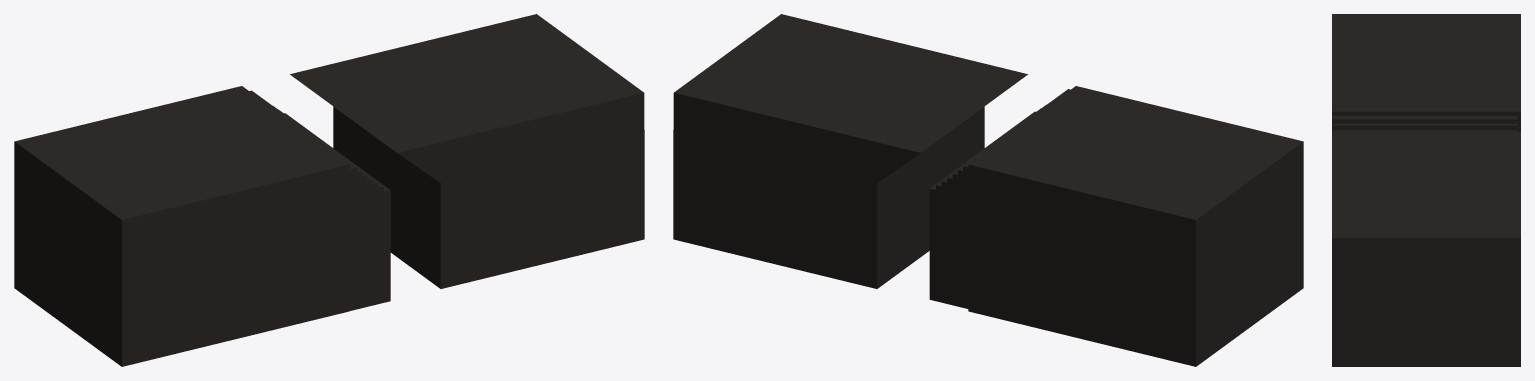
Rendered from underground.FBX.
3 renders of one model, left to right at view 1: azimuth 30°, elevation 25°; view 2: azimuth 150°, elevation 25°; view 3: azimuth 270°, elevation 25°, orthographic. The views are drawn at different scales.
Parts seen in each view (by area): view 1: underground; view 2: underground; view 3: underground.
Part boxes in pixels (x1=…): underground: x1=14, y1=14, x2=644, y2=366; underground: x1=673, y1=14, x2=1303, y2=366; underground: x1=1332, y1=14, x2=1520, y2=366.
Bounding box in the file's own units: 1691 × 454 × 602.
1 material, 1 textured.
